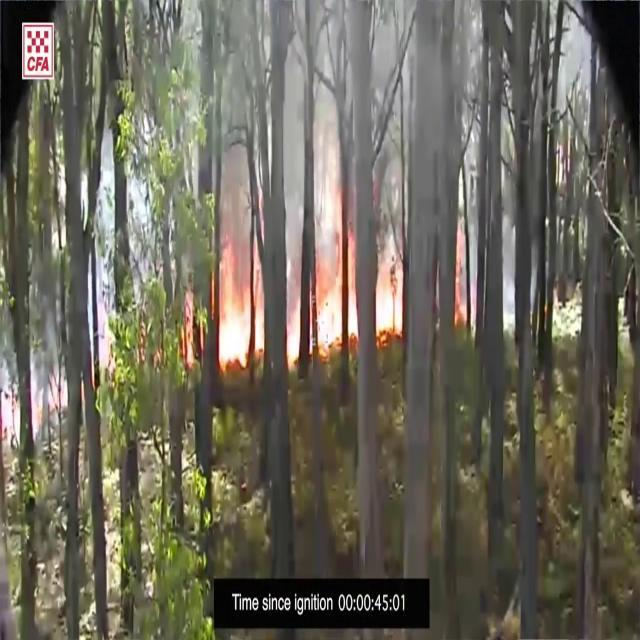Fire: (209, 231, 265, 374), (316, 205, 358, 358), (375, 255, 403, 348)
Smoke: (206, 1, 469, 272)
